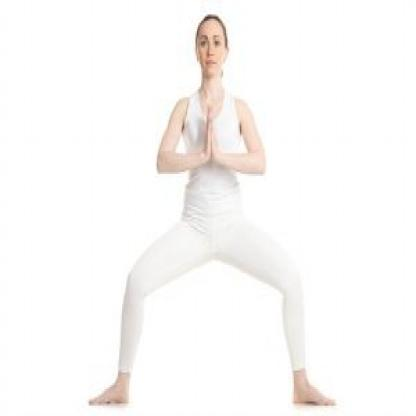godness: (82, 4, 341, 416)
